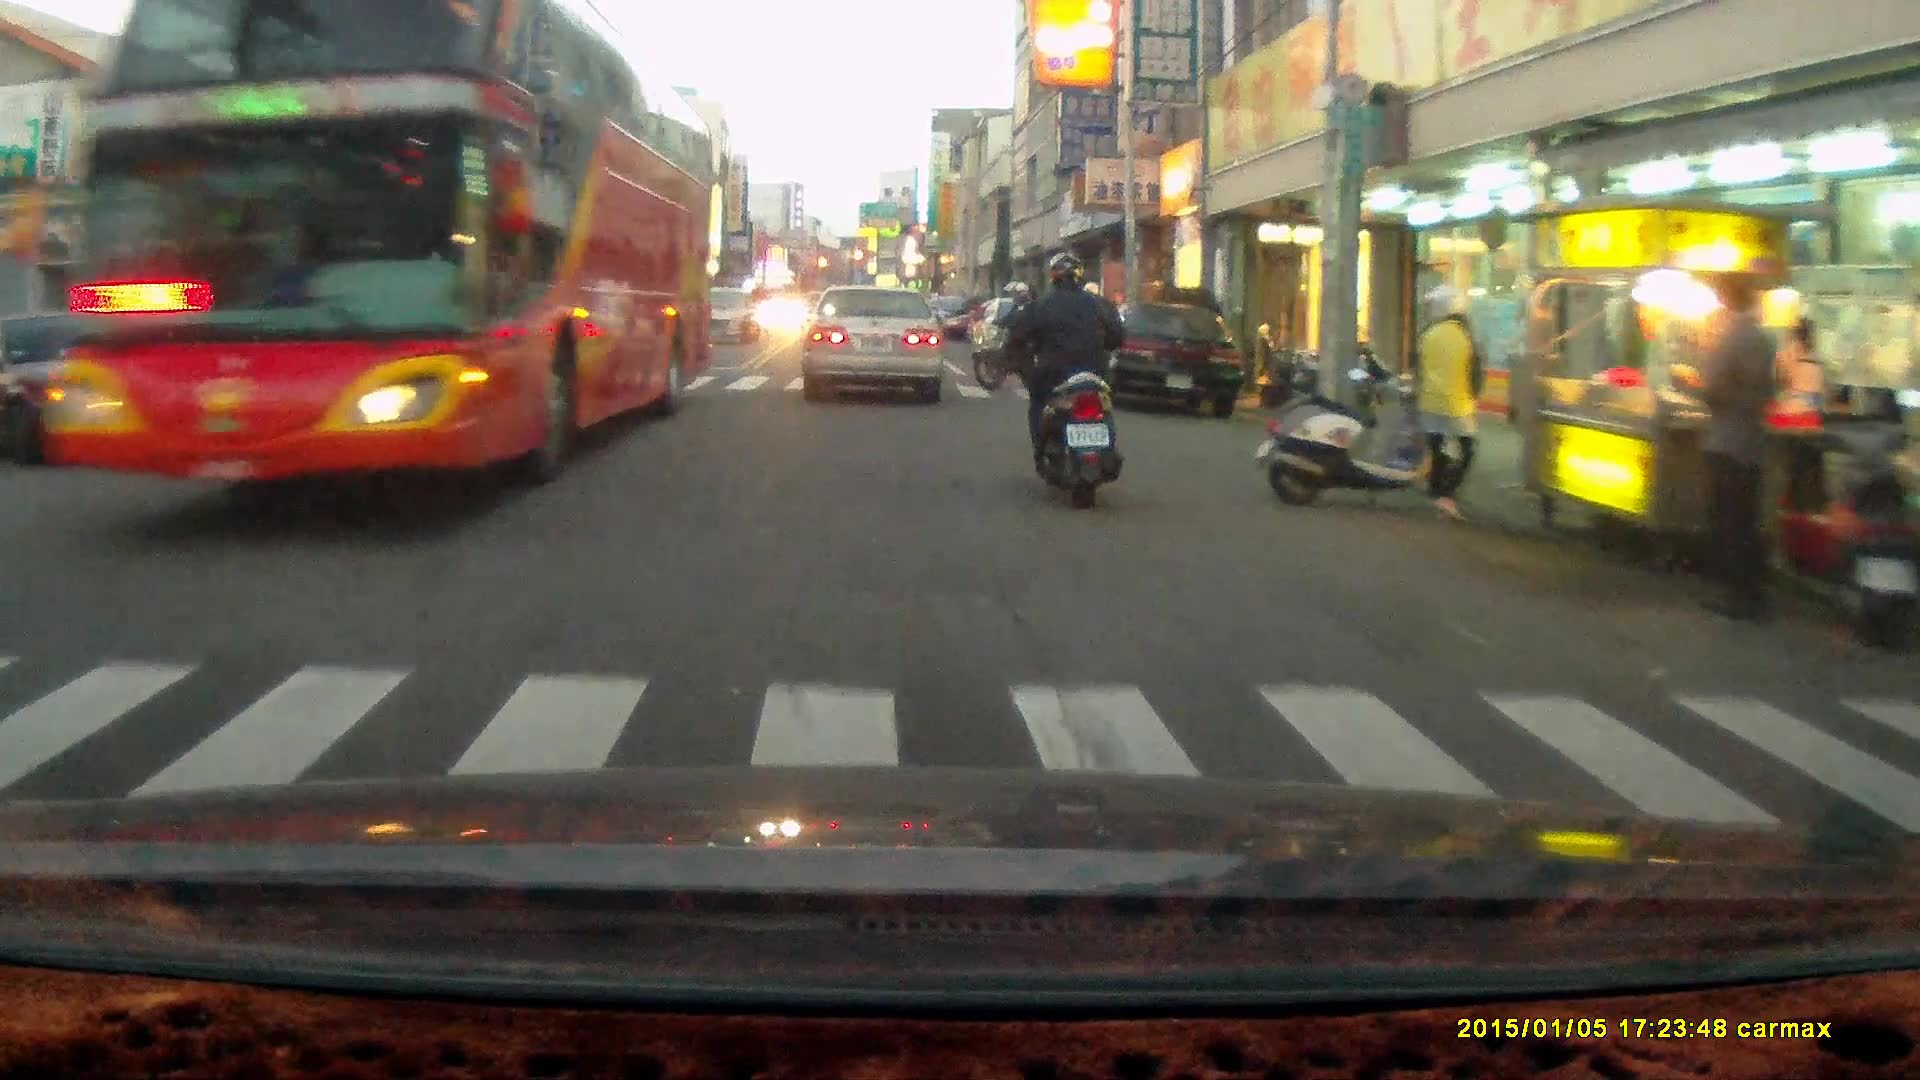pedestrian: (1681, 279, 1783, 622), (1407, 281, 1487, 528), (1773, 313, 1831, 502)
rider: (1001, 252, 1121, 511), (975, 278, 1046, 392)
vehicle: (41, 20, 713, 499), (1078, 300, 1254, 420), (1, 313, 122, 460), (802, 286, 947, 404)
